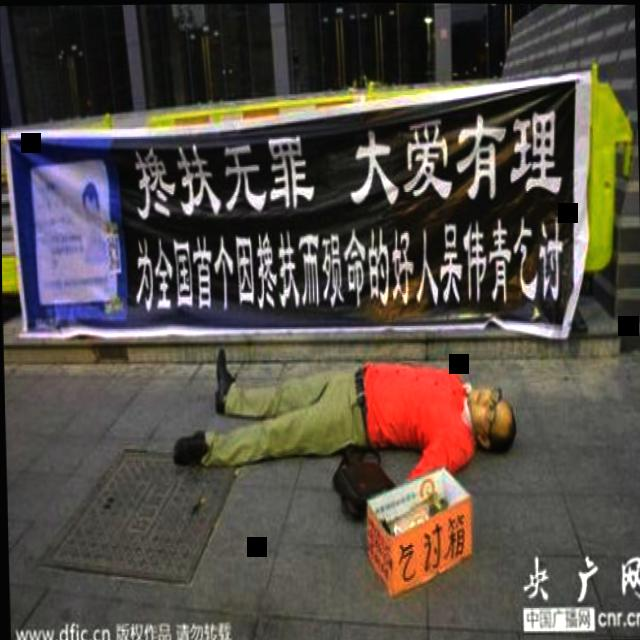Fall-Detected: (175, 329, 518, 496)
